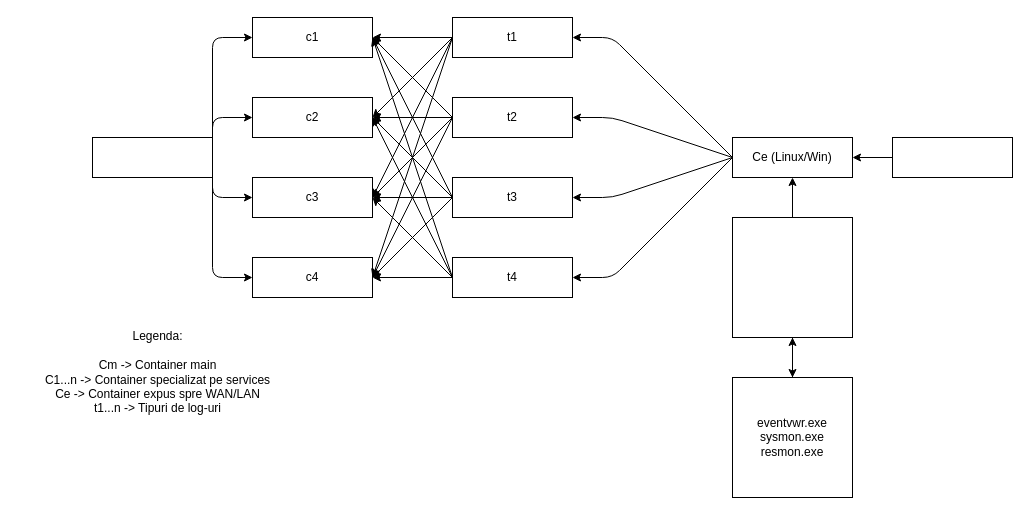
Image size: 1030x515. Some labels were removed from this diagram. Here are the shapes that lost their labels. From the top down, the box of each, then its label:
(92, 136, 212, 178): Cm
(892, 136, 1012, 178): WAN/LAN
(732, 216, 852, 338): journalctl entries /var/log/btmp /var/log/wtmp /var/log/system /var/log/*
